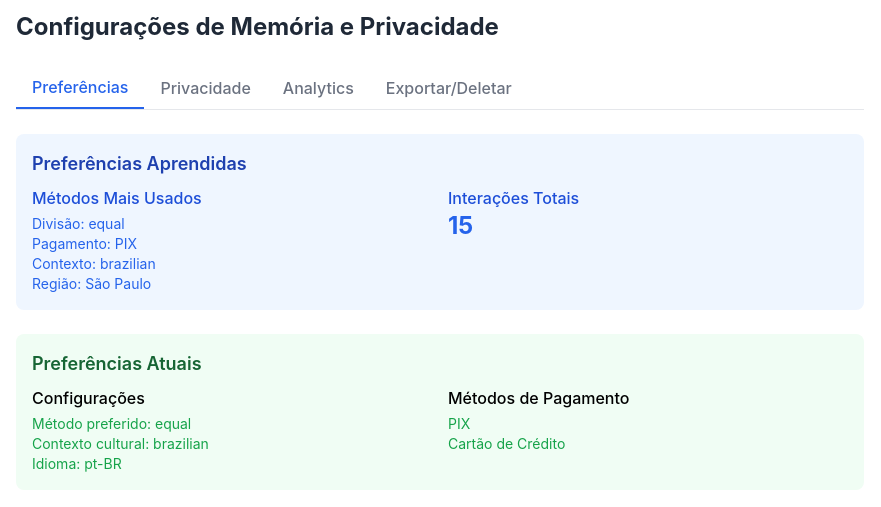
Test: MemoryContextUI Component - Story 6 › Acceptance Criteria Tests › should provide data export and deletion features
The image size is (881, 507).
What coordinates should you click on to do the following:
click the button "Exportar/Deletar"
I would click on:
 (449, 88)
Its box is left=370, top=67, right=528, bottom=109.
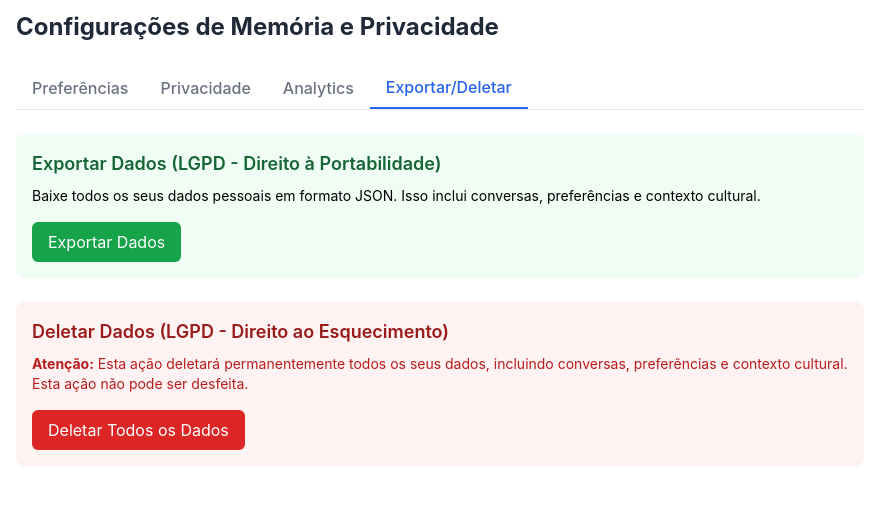
Now the heading "Exportar Dados (LGPD - Direito à Portabilidade)" is shown, box left=32, top=153, right=442, bottom=174
Now the heading "Deletar Dados (LGPD - Direito ao Esquecimento)" is shown, box left=32, top=321, right=449, bottom=342
Now the button "Exportar Dados" is shown, box left=32, top=222, right=181, bottom=262
